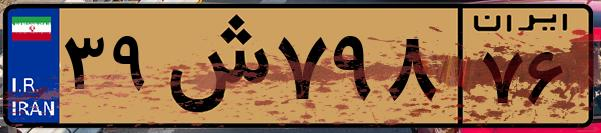3: (57, 26, 110, 100)
6: (525, 38, 570, 115)
7: (270, 28, 330, 110), (475, 38, 525, 113)
8: (385, 28, 445, 110)
9: (330, 28, 385, 110), (110, 28, 158, 98)
ش: (158, 12, 270, 120)
